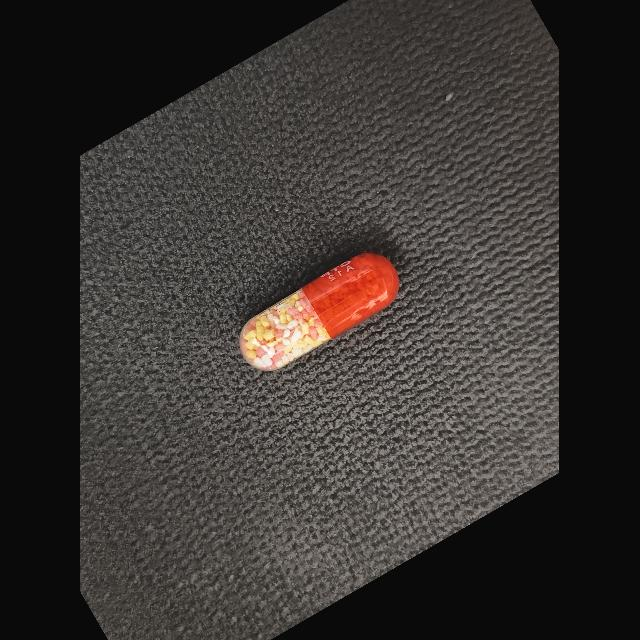Intact Capsule: (240, 253, 400, 371)
